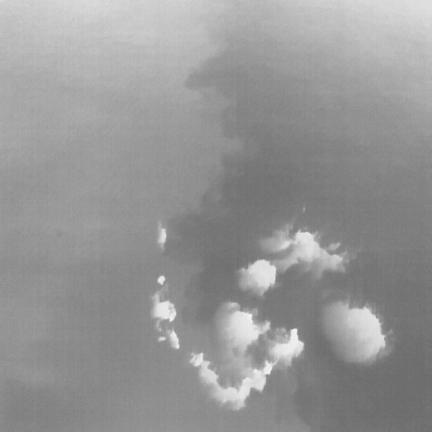flukeprints: (323, 301, 385, 364), (200, 363, 272, 409), (274, 231, 344, 272), (215, 302, 269, 349), (238, 260, 276, 296), (271, 329, 303, 364), (151, 291, 176, 327), (157, 223, 167, 251), (165, 329, 179, 348), (190, 353, 203, 366)
